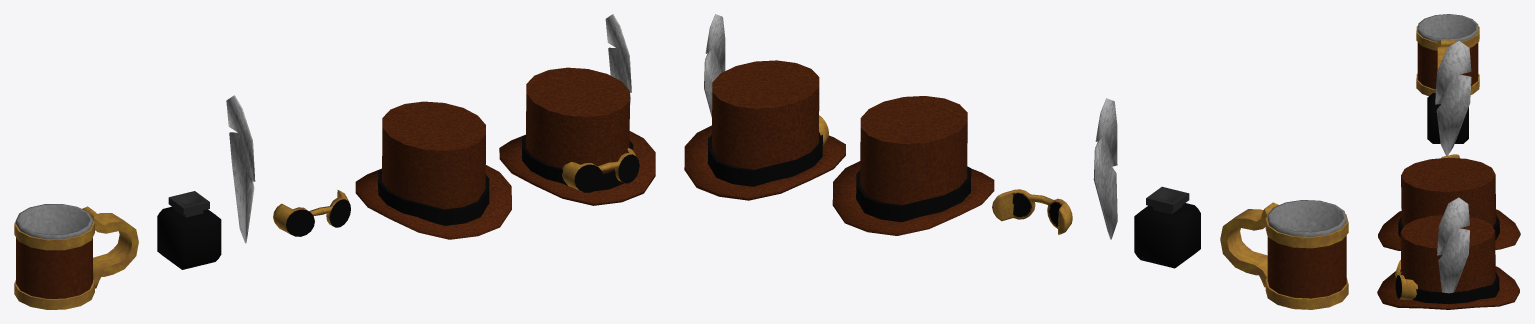
File: HatNGlases.fbx
3 views of the same model, side by side, from view 1: azimuth 30°, elevation 25°; view 2: azimuth 150°, elevation 25°; view 3: azimuth 270°, elevation 25° (orthographic). The views are drawn at different scales.
Visible parts, largest first — view 1: FullHat, Hat, Cup, Ink, Quill, Glasses; view 2: FullHat, Hat, Cup, Ink, Quill, Glasses; view 3: FullHat, Hat, Cup, Quill, Ink.
Part boxes in pixels (x1=…): FullHat: x1=499, y1=14, x2=655, y2=205; Hat: x1=355, y1=101, x2=511, y2=239; Cup: x1=14, y1=204, x2=138, y2=309; Ink: x1=157, y1=191, x2=221, y2=269; Quill: x1=226, y1=95, x2=255, y2=243; Glasses: x1=273, y1=190, x2=350, y2=236; FullHat: x1=684, y1=14, x2=845, y2=200; Hat: x1=832, y1=96, x2=994, y2=235; Cup: x1=1220, y1=200, x2=1348, y2=309; Ink: x1=1134, y1=186, x2=1200, y2=268; Quill: x1=1093, y1=98, x2=1117, y2=239; Glasses: x1=992, y1=189, x2=1072, y2=234; FullHat: x1=1377, y1=197, x2=1519, y2=309; Hat: x1=1378, y1=157, x2=1520, y2=250; Cup: x1=1416, y1=14, x2=1479, y2=96; Quill: x1=1435, y1=41, x2=1471, y2=155; Ink: x1=1427, y1=85, x2=1468, y2=143.
Size of the model in its own units: 1.47 by 0.3436 by 0.3629.
